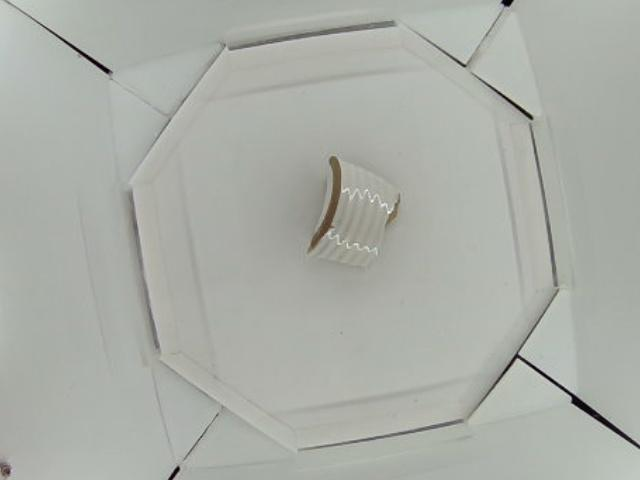China: (309, 156, 402, 267)
